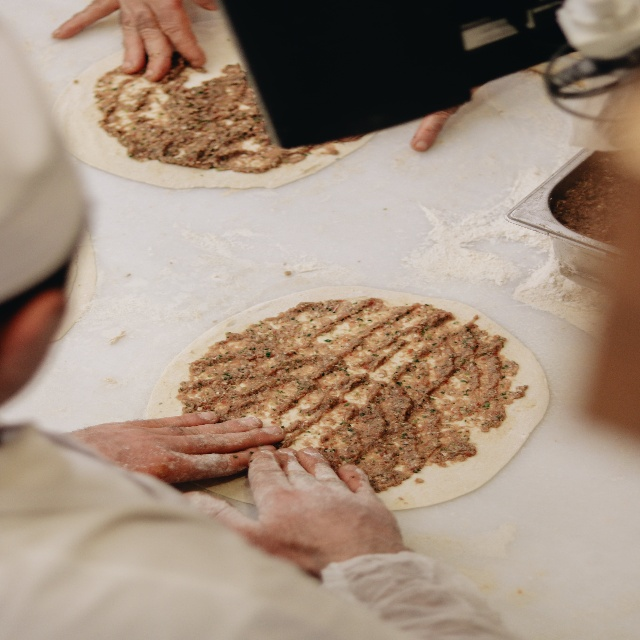Sin_guantes: (185, 443, 407, 579), (70, 411, 285, 484), (53, 0, 218, 82)
